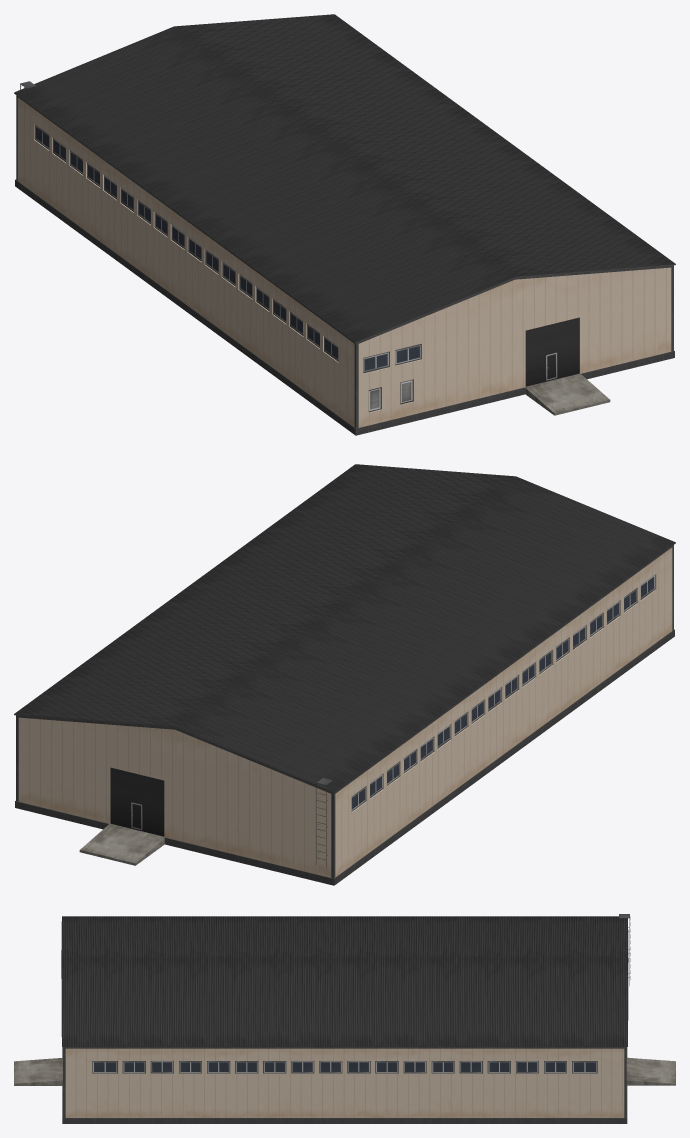
Rendered from plant-building3.glb.
3 views of the same model, one above another, from view 1: azimuth 30°, elevation 25°; view 2: azimuth 150°, elevation 25°; view 3: azimuth 270°, elevation 25° (orthographic). The views are drawn at different scales.
Visible parts, largest first — view 1: Object8932294; view 2: Object8932294; view 3: Object8932294.
Boxes of the visible parts, x1,y1,x2,y2 form: Object8932294: (14, 14, 675, 435); Object8932294: (14, 464, 675, 885); Object8932294: (14, 914, 675, 1123).
Size of the model in its own units: 31.43 by 11.3 by 67.74.
Materials: 1 (1 with a texture image).
